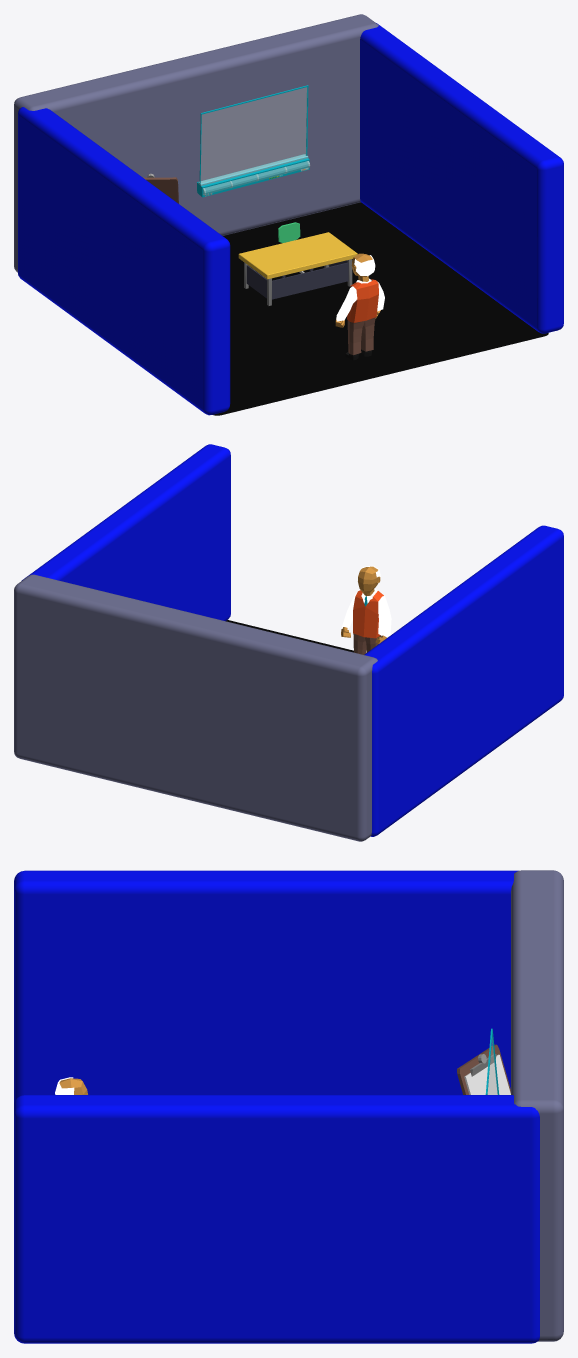
File: classroom.glb
The picture shows the model from 3 angles, top to bottom: view 1: azimuth 30°, elevation 25°; view 2: azimuth 150°, elevation 25°; view 3: azimuth 270°, elevation 25°; orthographic projection. The views are drawn at different scales.
Visible parts, largest first — view 1: Box 2, Box 1, Box, SquarePlane, Buffer Layer (×7), Board, Boards; view 2: Box 2, Box 1, Box, Buffer Layer (×3); view 3: Box, Box 1, Box 2, Buffer Layer.
Part boxes in pixels (x1,y1,x2,y2): Box 2: (14,14,378,272); Box 1: (18,107,230,415); Box: (360,23,563,333); SquarePlane: (212,202,548,415); Buffer Layer (×7): (143,85,384,355); Board: (238,232,357,279); Boards: (246,260,348,299); Box 2: (14,574,377,841); Box 1: (364,525,563,836); Box: (21,444,230,621); Buffer Layer (×3): (341,565,391,643); Box: (14,1095,539,1343); Box 1: (14,870,518,1104); Box 2: (511,870,563,1341); Buffer Layer: (464,1054,510,1094).
Bounding box in the file's own units: 0.2151 × 0.1005 × 0.2068.
